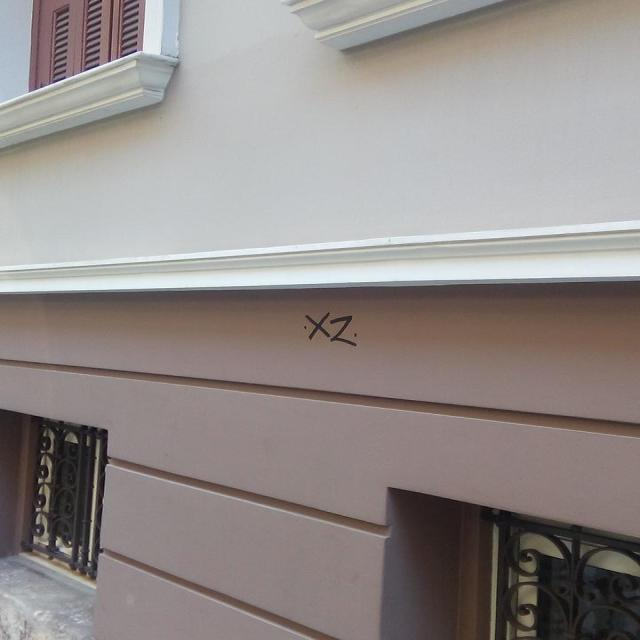nonspitting: (301, 308, 360, 348)
